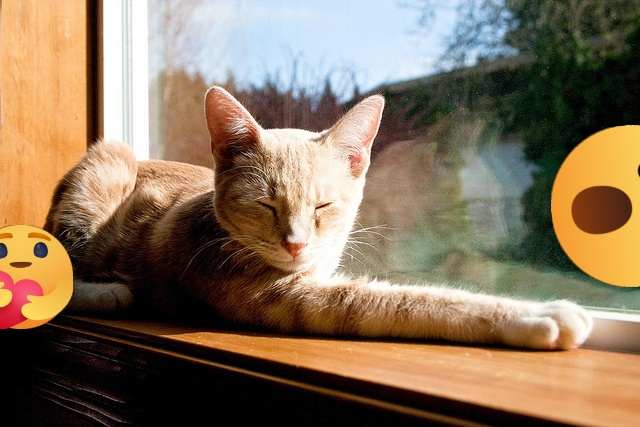care: (0, 225, 73, 329)
wow: (551, 125, 640, 287)
